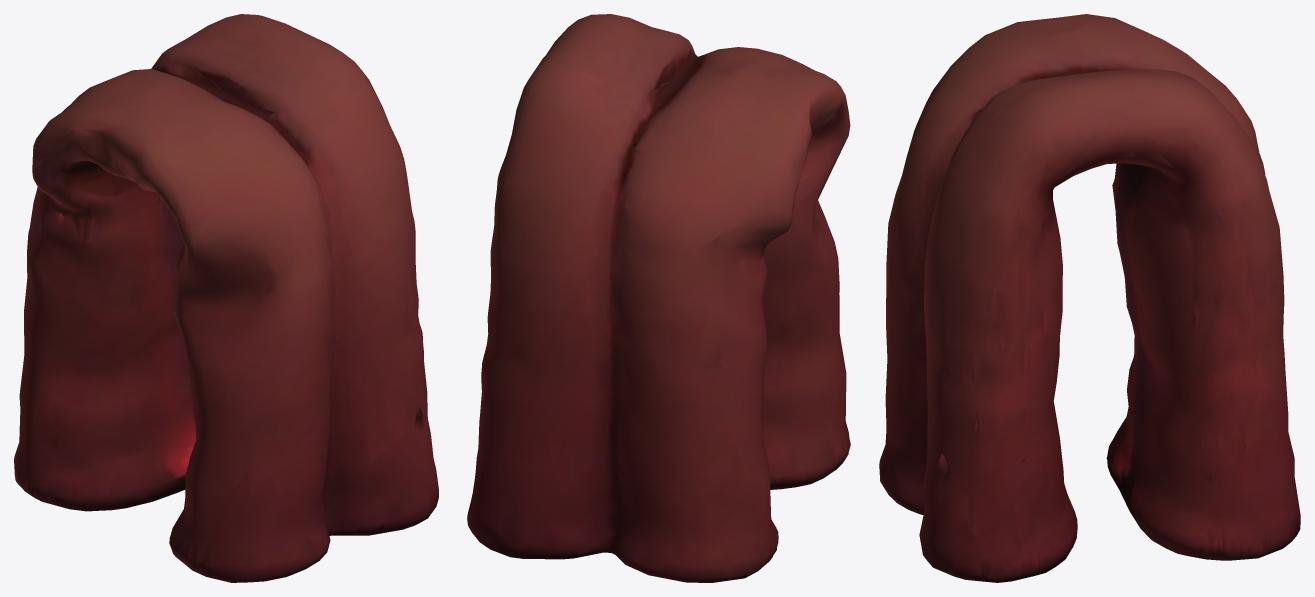
The model's file is 01_3_bud_rrs_stool-opt-v3.glb.
3 views of the same model, side by side, from view 1: azimuth 30°, elevation 25°; view 2: azimuth 150°, elevation 25°; view 3: azimuth 270°, elevation 25° (orthographic). The views are drawn at different scales.
Parts seen in each view (by area): view 1: tripo_material_2e37826a-9f09-40e4-9aca-c6835949edb5.002; view 2: tripo_material_2e37826a-9f09-40e4-9aca-c6835949edb5.002; view 3: tripo_material_2e37826a-9f09-40e4-9aca-c6835949edb5.002.
Boxes of the visible parts, box(x1,y1,x2,y2) form: tripo_material_2e37826a-9f09-40e4-9aca-c6835949edb5.002: box(14, 14, 438, 582); tripo_material_2e37826a-9f09-40e4-9aca-c6835949edb5.002: box(467, 14, 850, 582); tripo_material_2e37826a-9f09-40e4-9aca-c6835949edb5.002: box(879, 14, 1300, 582).
Bounding box in the file's own units: 0.3364 × 0.4499 × 0.3729.
1 material, 1 textured.
